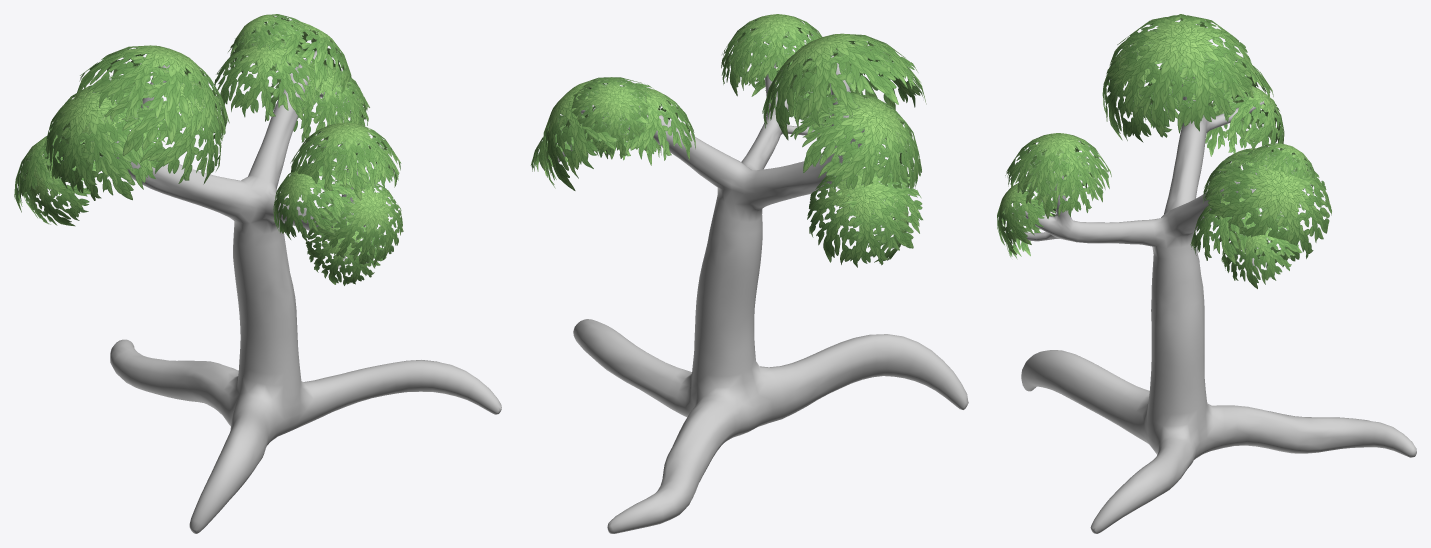
File: AdultTree_FULL_Model_v001.fbx
The picture shows the model from 3 angles, left to right: view 1: azimuth 30°, elevation 25°; view 2: azimuth 150°, elevation 25°; view 3: azimuth 270°, elevation 25°; orthographic projection. The views are drawn at different scales.
Parts seen in each view (by area): view 1: AdultTreeTrunk, AdultLeaves1, AdultLeaves2, AdultLeaves10, AdultLeaves6, AdultLeaves11, AdultLeaves12, AdultLeaves16, AdultLeaves7, AdultLeaves9, AdultLeaves13, AdultLeaves4 (+4 smaller); view 2: AdultTreeTrunk, AdultLeaves1, AdultLeaves2, AdultLeaves3, AdultLeaves7, AdultLeaves11, AdultLeaves8, AdultLeaves10, AdultLeaves6, AdultLeaves14, AdultLeaves4, AdultLeaves5 (+1 smaller); view 3: AdultTreeTrunk, AdultLeaves1, AdultLeaves7, AdultLeaves11, AdultLeaves6, AdultLeaves3, AdultLeaves15, AdultLeaves9, AdultLeaves12, AdultLeaves14, AdultLeaves8, AdultLeaves4 (+3 smaller).
Boxes of the visible parts, bbox=[...] form: AdultTreeTrunk: bbox=[94, 30, 501, 533]; AdultLeaves1: bbox=[75, 45, 229, 144]; AdultLeaves2: bbox=[43, 85, 164, 190]; AdultLeaves10: bbox=[214, 40, 322, 120]; AdultLeaves6: bbox=[104, 64, 222, 184]; AdultLeaves11: bbox=[290, 122, 401, 200]; AdultLeaves12: bbox=[313, 177, 403, 264]; AdultLeaves16: bbox=[272, 164, 357, 241]; AdultLeaves7: bbox=[228, 22, 352, 93]; AdultLeaves9: bbox=[265, 64, 369, 142]; AdultLeaves13: bbox=[305, 211, 386, 285]; AdultLeaves4: bbox=[21, 141, 98, 226]; AdultTreeTrunk: bbox=[557, 55, 968, 533]; AdultLeaves1: bbox=[762, 33, 918, 140]; AdultLeaves2: bbox=[790, 92, 921, 195]; AdultLeaves3: bbox=[807, 162, 922, 267]; AdultLeaves7: bbox=[542, 77, 654, 190]; AdultLeaves11: bbox=[721, 14, 822, 87]; AdultLeaves8: bbox=[566, 77, 653, 158]; AdultLeaves10: bbox=[585, 88, 695, 160]; AdultLeaves6: bbox=[786, 44, 926, 117]; AdultLeaves14: bbox=[721, 29, 806, 96]; AdultLeaves4: bbox=[836, 181, 908, 263]; AdultLeaves5: bbox=[811, 104, 913, 187]; AdultTreeTrunk: bbox=[1021, 77, 1416, 533]; AdultLeaves1: bbox=[1106, 14, 1256, 137]; AdultLeaves7: bbox=[1204, 146, 1331, 268]; AdultLeaves11: bbox=[1005, 133, 1111, 205]; AdultLeaves6: bbox=[1102, 29, 1214, 142]; AdultLeaves3: bbox=[1208, 84, 1284, 149]; AdultLeaves15: bbox=[1221, 219, 1301, 288]; AdultLeaves9: bbox=[1190, 195, 1283, 264]; AdultLeaves12: bbox=[997, 181, 1068, 250]; AdultLeaves14: bbox=[1017, 149, 1105, 218]; AdultLeaves8: bbox=[1242, 143, 1316, 195]; AdultLeaves4: bbox=[1205, 93, 1281, 156].
Bounding box in the file's own units: 336 × 330 × 323.
